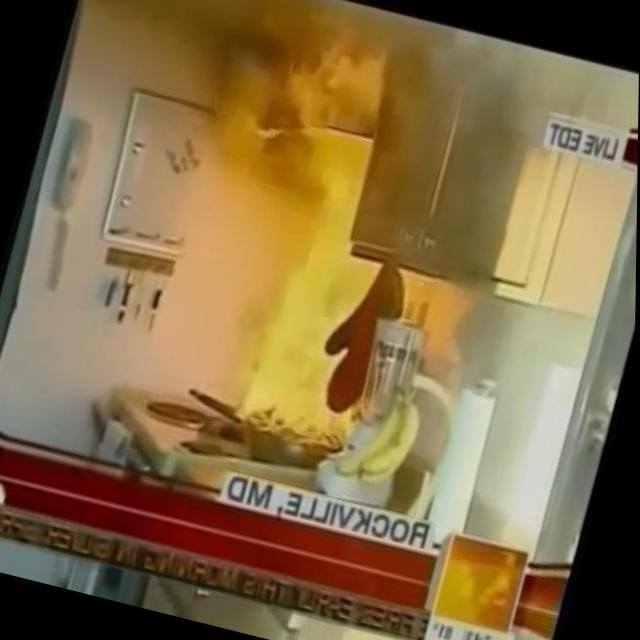fire: (179, 36, 440, 453)
